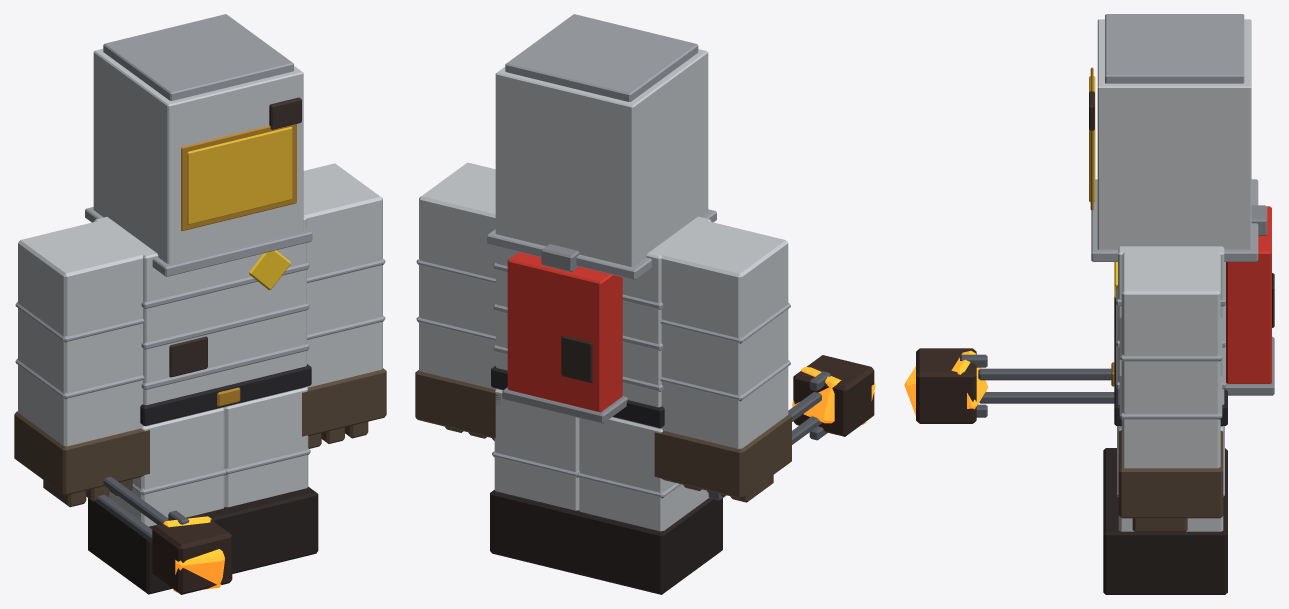
The model's file is myw_zombievolcanologist.glb.
3 views of the same model, side by side, from view 1: azimuth 30°, elevation 25°; view 2: azimuth 150°, elevation 25°; view 3: azimuth 270°, elevation 25° (orthographic). The views are drawn at different scales.
Visible parts, largest first — view 1: Hat, RightArm, Torso, LeftArm, LeftLeg, RightLeg, Magma, Tongs; view 2: Hat, RightArm, Torso, LeftArm, RightLeg, LeftLeg, Magma, Tongs; view 3: Hat, LeftArm, Torso, LeftLeg, Magma, Tongs, RightLeg.
Boxes of the visible parts, x1,y1,x2,y2 form: Hat: [85, 14, 312, 276]; RightArm: [14, 221, 149, 507]; Torso: [94, 216, 311, 426]; LeftArm: [302, 163, 386, 448]; LeftLeg: [223, 387, 318, 573]; RightLeg: [88, 407, 233, 594]; Magma: [152, 514, 232, 594]; Tongs: [95, 477, 189, 543]; Hat: [487, 14, 716, 279]; RightArm: [654, 221, 791, 502]; Torso: [491, 216, 711, 428]; LeftArm: [415, 162, 500, 440]; RightLeg: [575, 417, 722, 594]; LeftLeg: [490, 388, 579, 574]; Magma: [792, 355, 875, 436]; Tongs: [708, 371, 830, 500]; Hat: [1089, 14, 1258, 261]; LeftArm: [1118, 251, 1223, 532]; Torso: [1111, 205, 1274, 426]; LeftLeg: [1103, 426, 1227, 594]; Magma: [904, 348, 988, 423]; Tongs: [960, 354, 1114, 417]; RightLeg: [1103, 426, 1227, 491].
Bounding box in the file's own units: 4.18 × 6.12 × 4.04.
